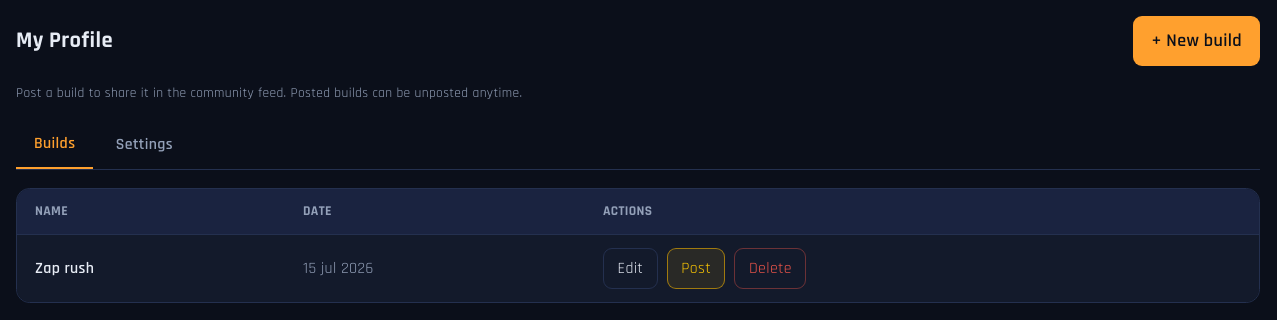
Test: ProfilePage › publishes a Draft build — the Post button becomes Posted
Click the button "Post".
click(696, 269)  # box [667, 248, 726, 289]
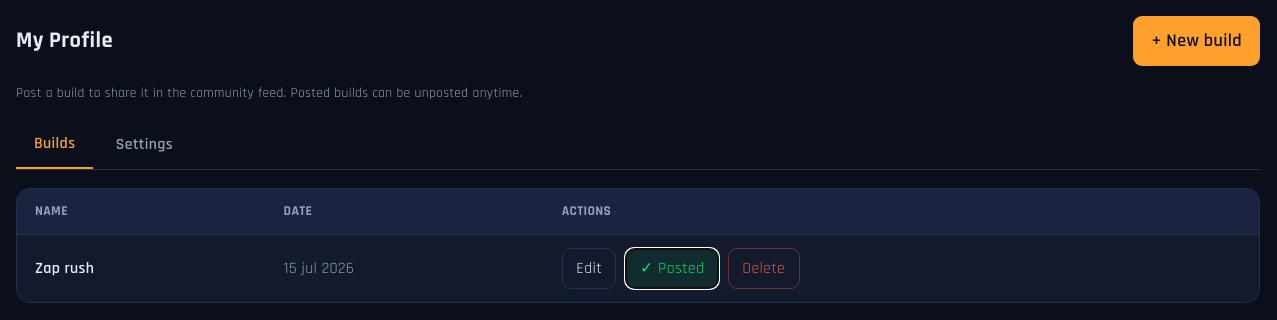
expect the button "✓ Posted" is shown: met, box [626, 248, 719, 289]
